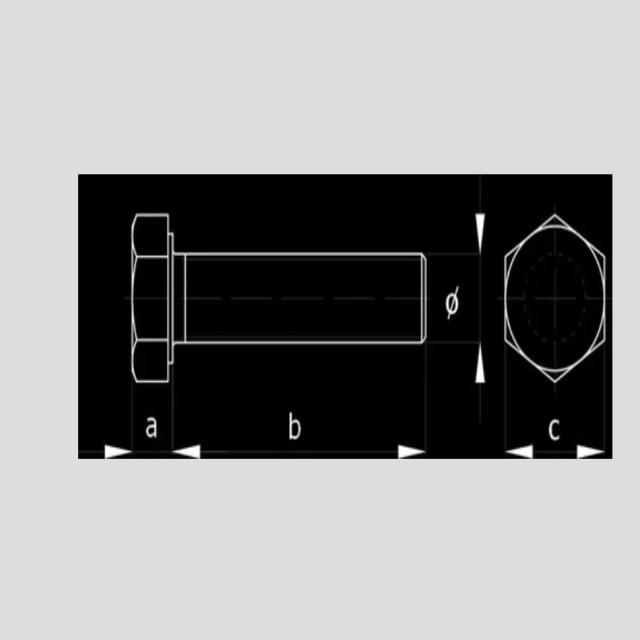marking_line: (167, 384, 429, 458), (428, 210, 488, 424), (79, 383, 204, 457), (500, 383, 609, 458)
special_symbol: (445, 285, 461, 320)
